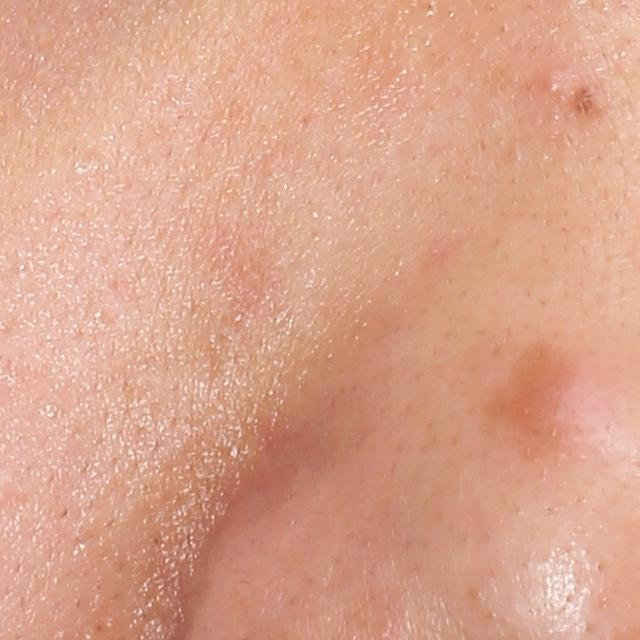nevus: (570, 84, 598, 120)
papule: (509, 350, 607, 441)
